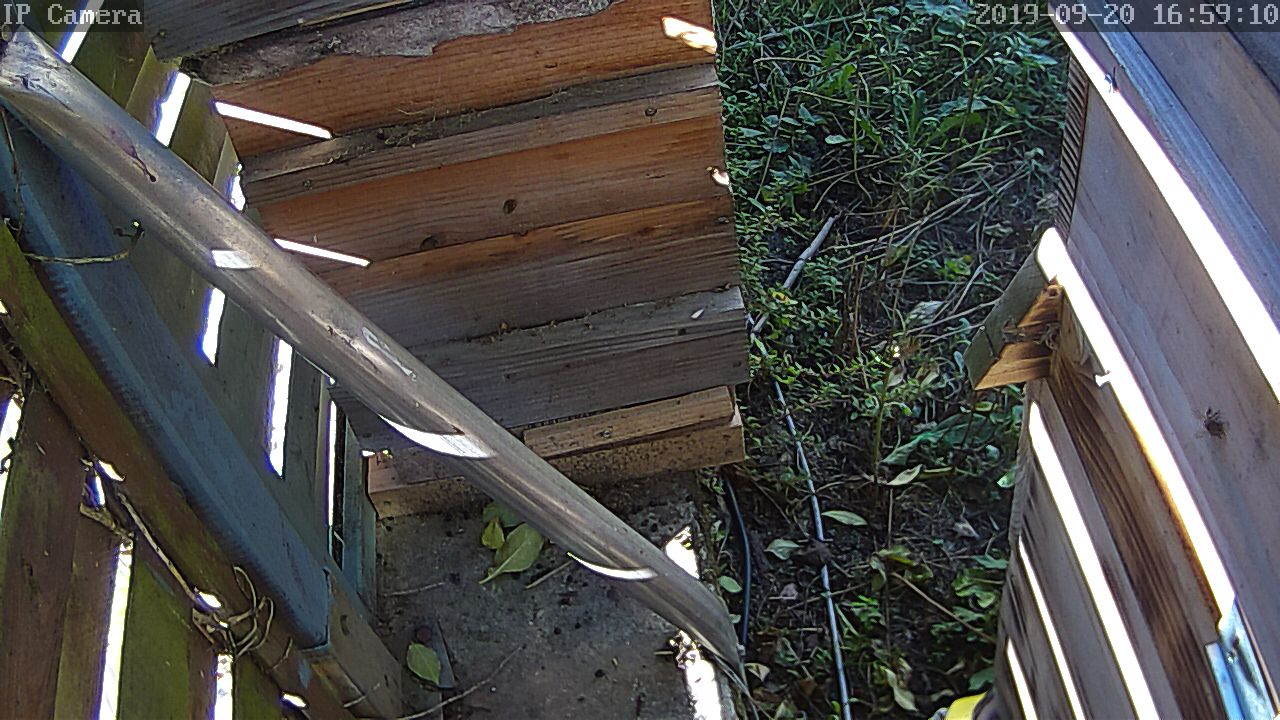hornet: (94, 0, 1242, 720), (508, 6, 1253, 638)
